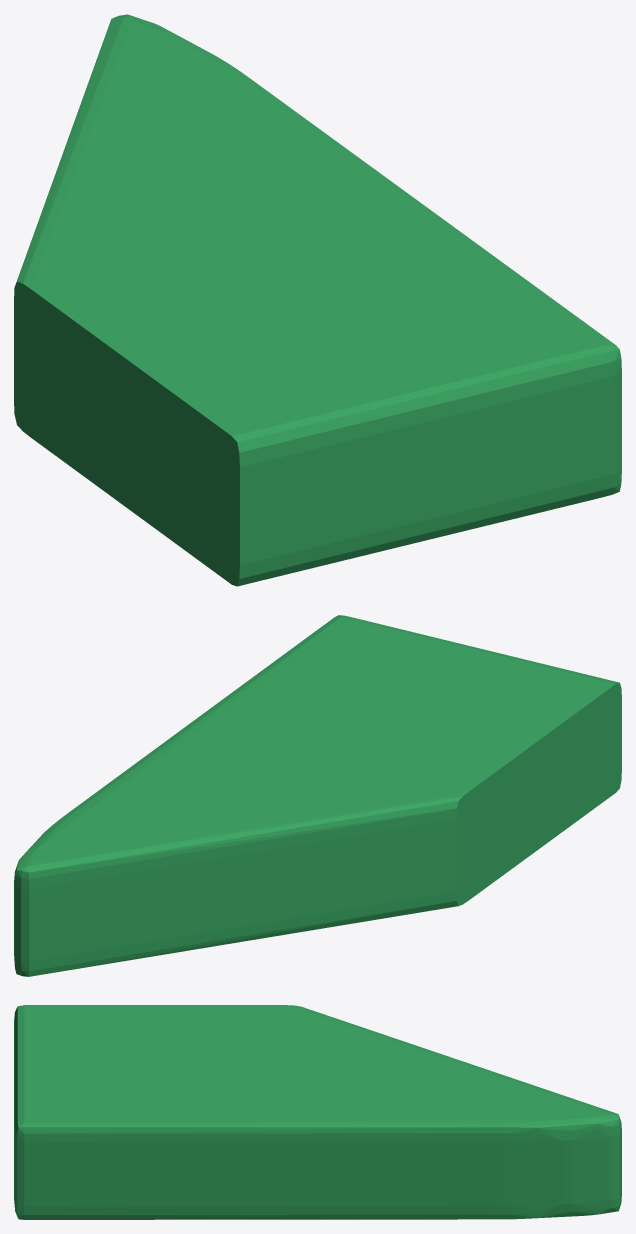
The model's file is right_hip_pitch_link_part_10.obj.
3 views of the same model, one above another, from view 1: azimuth 30°, elevation 25°; view 2: azimuth 150°, elevation 25°; view 3: azimuth 270°, elevation 25° (orthographic). The views are drawn at different scales.
Size of the model in its own units: 0.0473 by 0.0173 by 0.0999.
